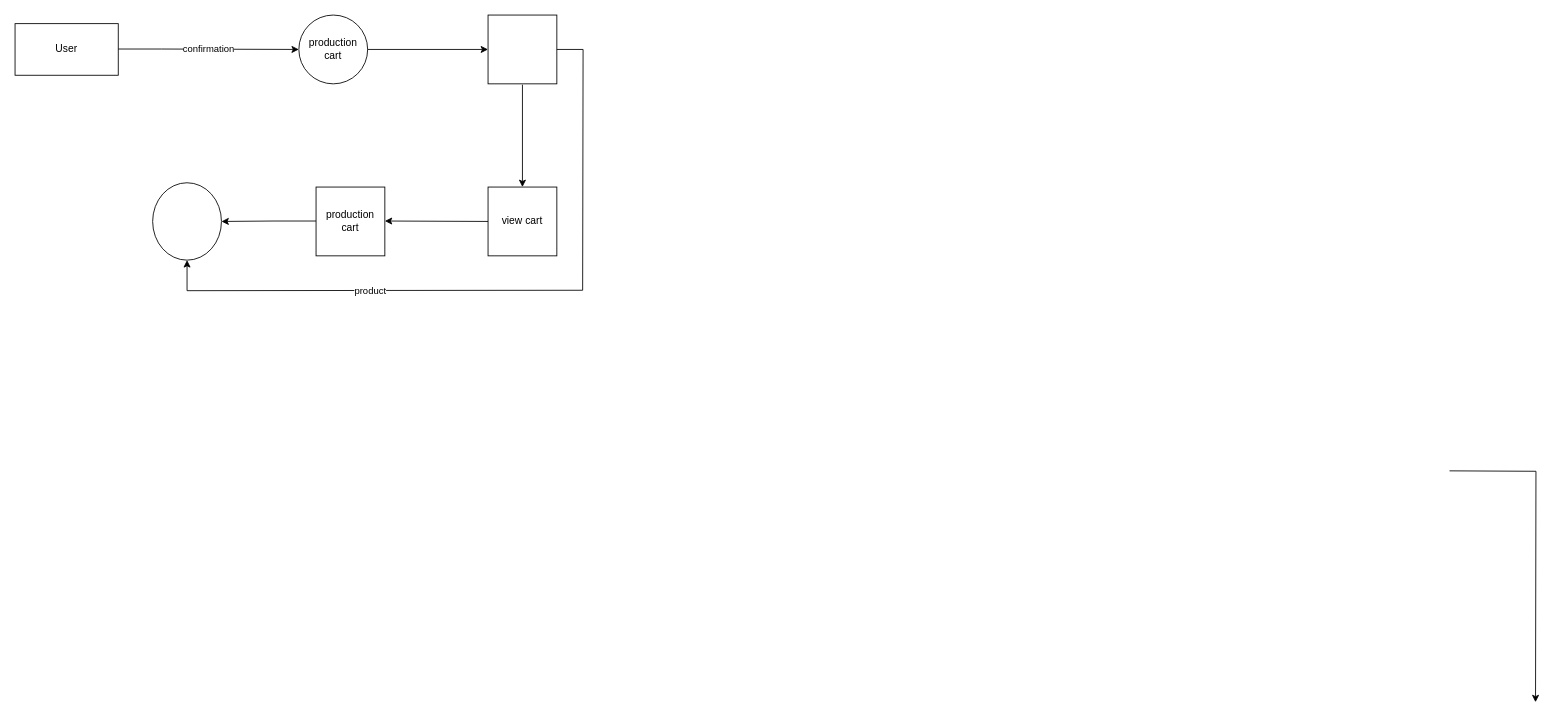
Image size: 1558x724. Some labels were removed from this diagram. The shapes that lost their labels are listed below. From the top down, each one's box as (x1, y1, x2, y2) in pixels, then its label:
(487, 14, 557, 84): cart
(152, 182, 221, 260): checkout
